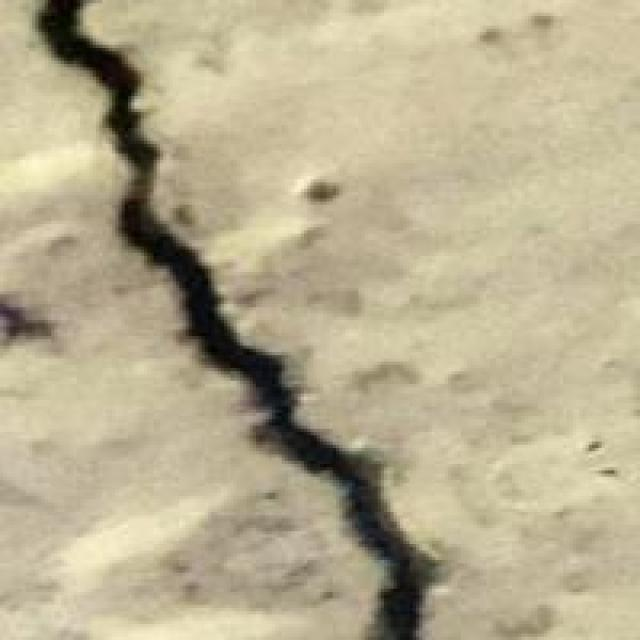Crack: (0, 0, 458, 637)
